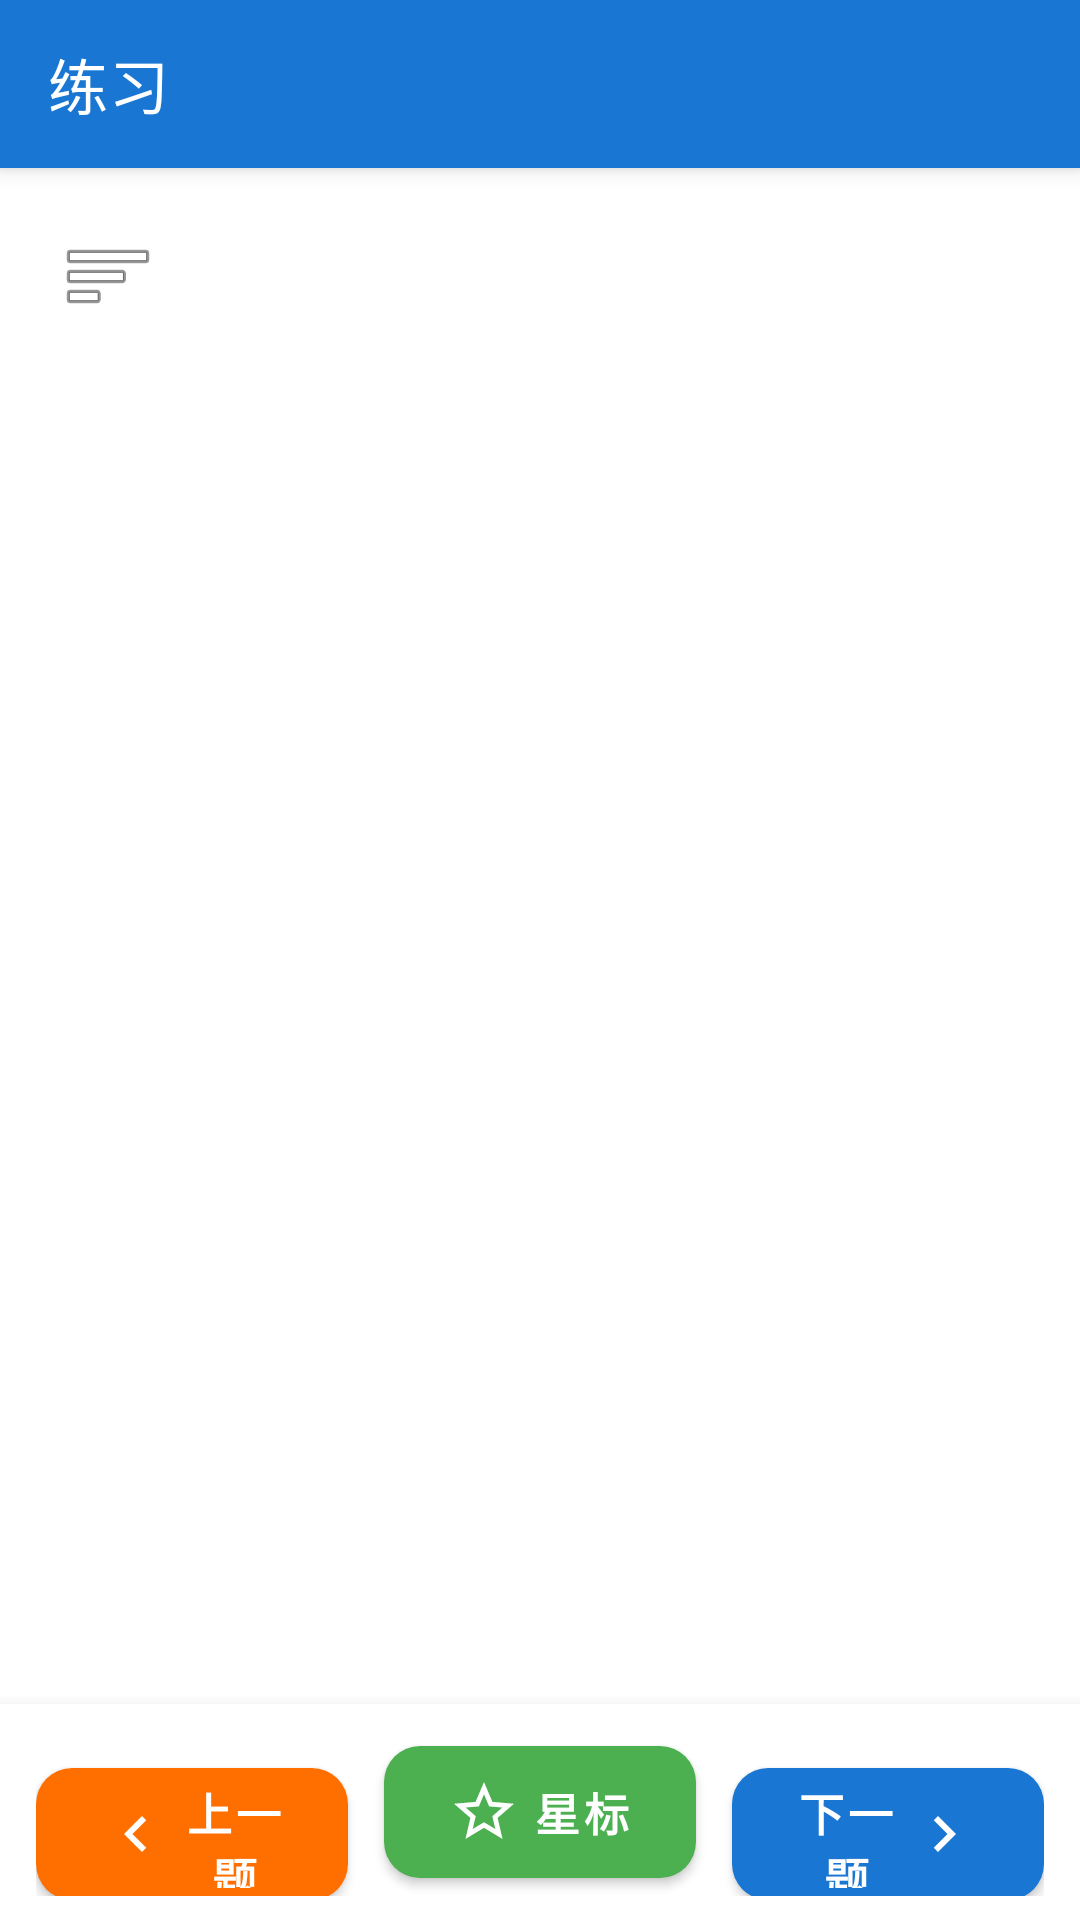

Icon click points for this 1080 × 1920 phone screenshot, format (x=x, y=y):
题型导航: (x=108, y=276)
